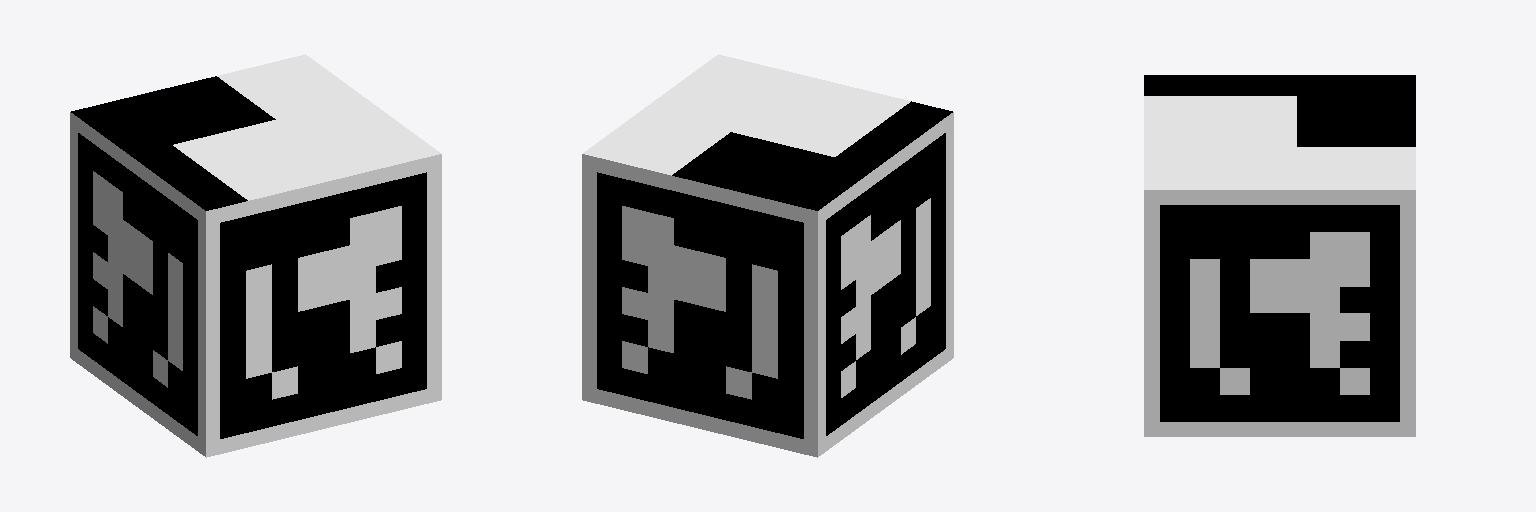
3 renders of one model, left to right at view 1: azimuth 30°, elevation 25°; view 2: azimuth 150°, elevation 25°; view 3: azimuth 270°, elevation 25°, orthographic.
Parts seen in each view (by area): view 1: Cube; view 2: Cube; view 3: Cube.
Boxes of the visible parts, box(x1,y1,x2,y2) form: Cube: box(70, 54, 441, 457); Cube: box(582, 54, 953, 457); Cube: box(1144, 75, 1415, 436).
Size of the model in its own units: 2 by 2 by 2.
Materials: 1 (1 with a texture image).